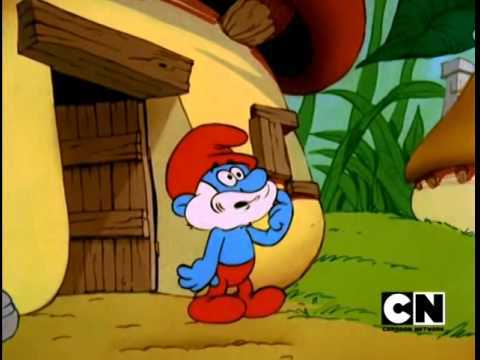smurf: (165, 122, 296, 324)
